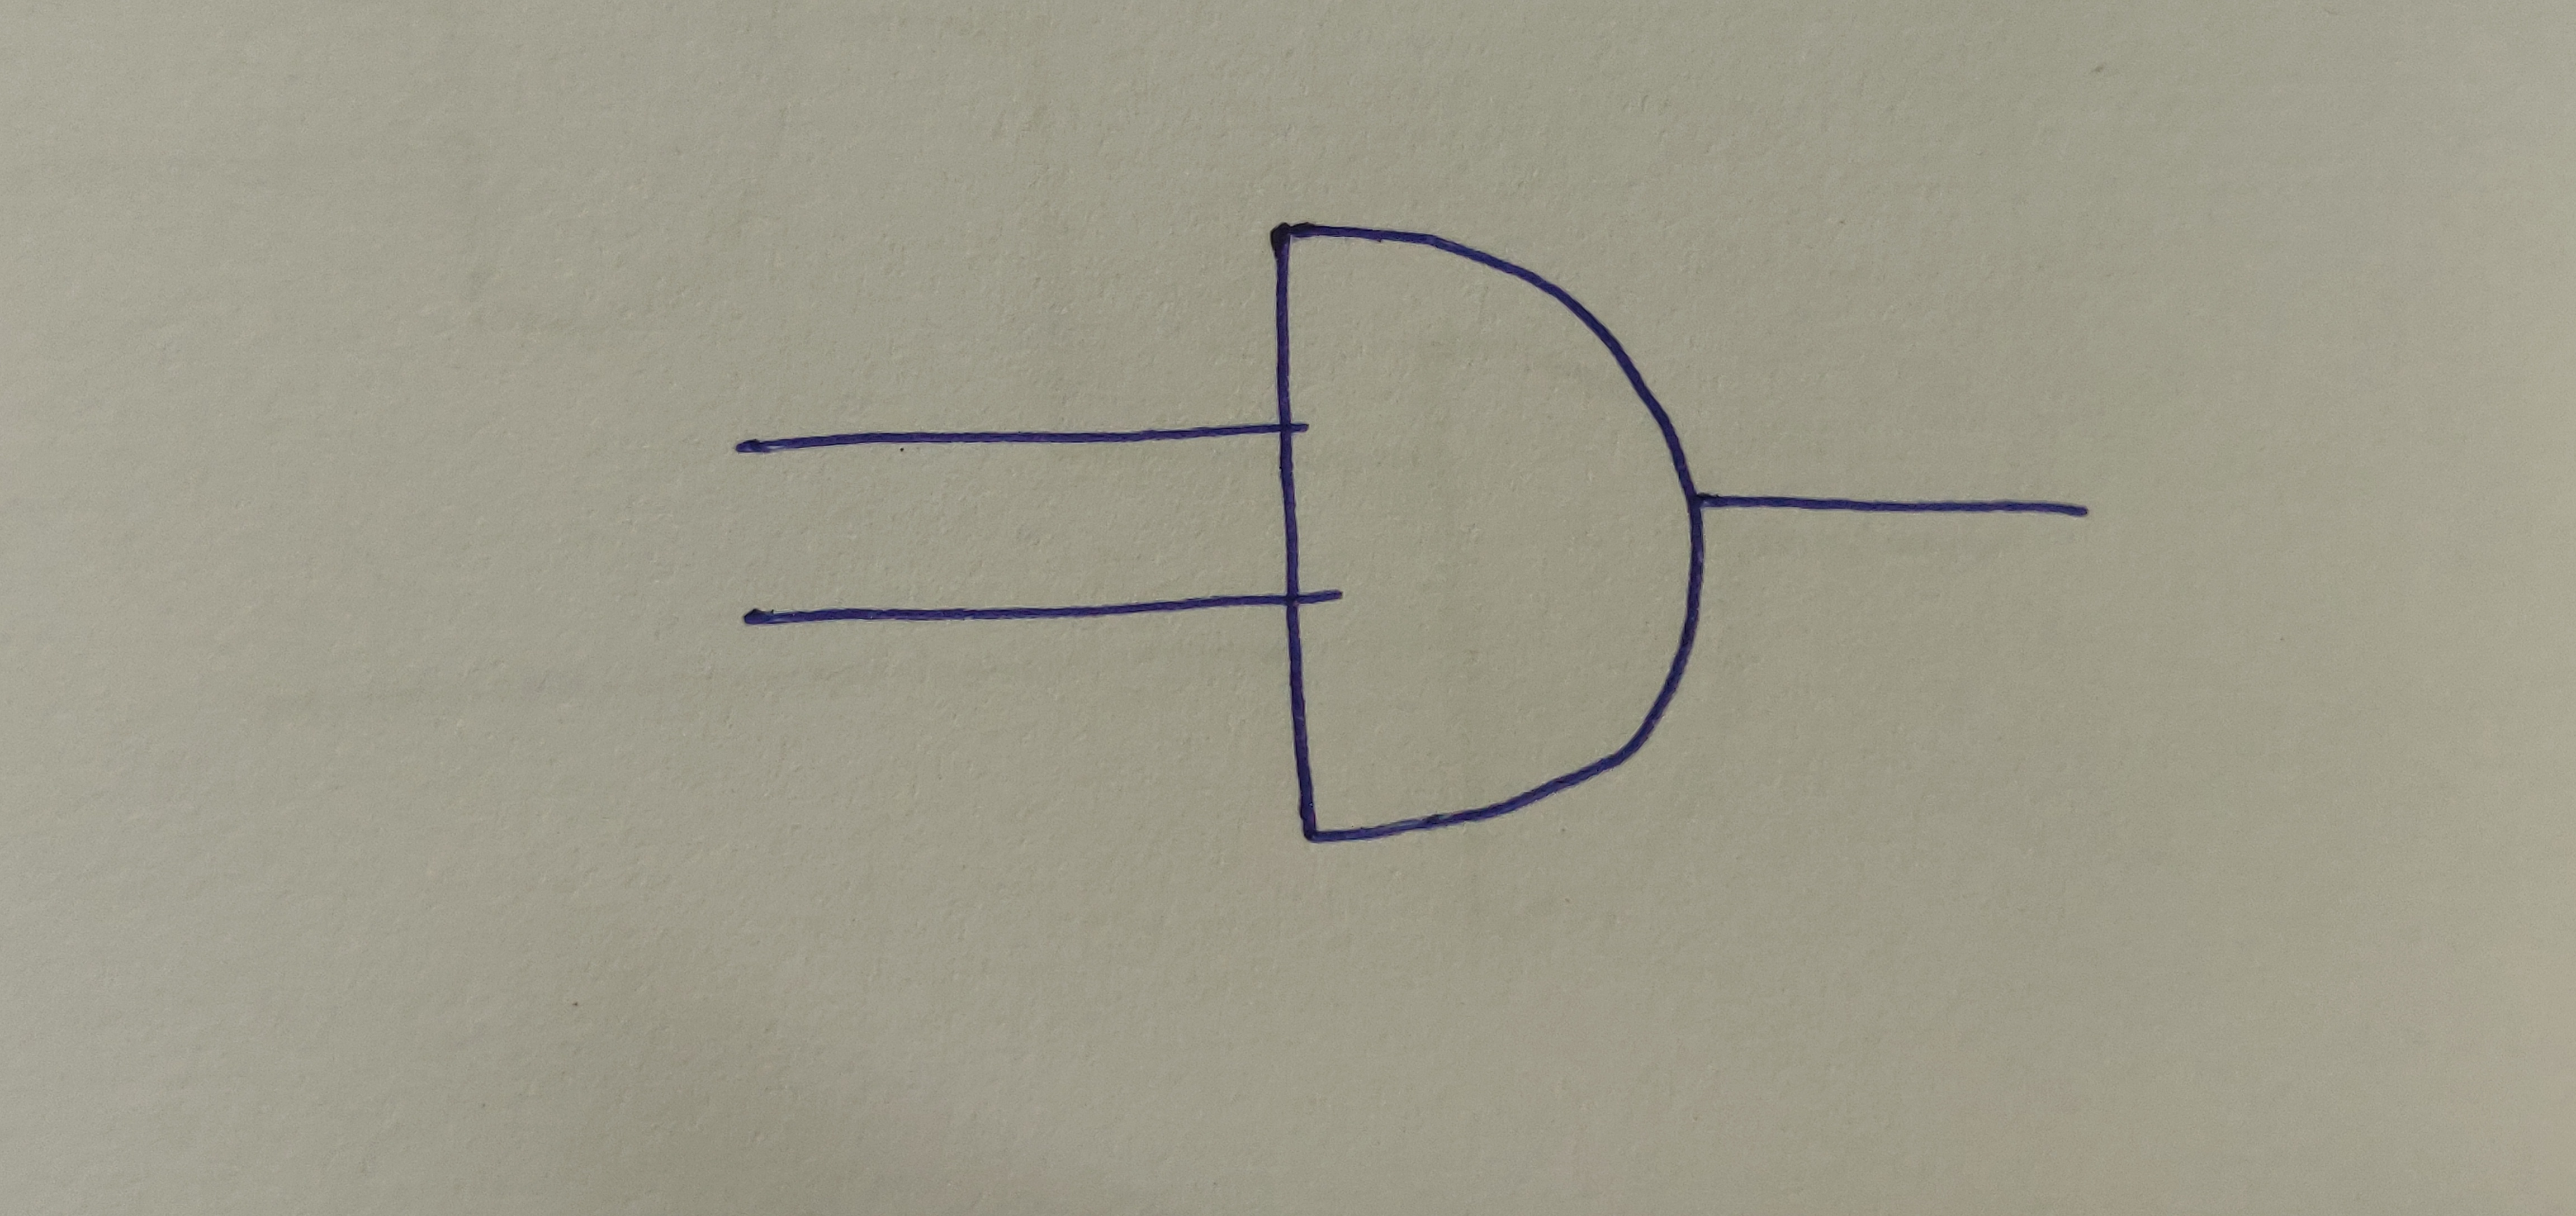and: (1265, 215, 1709, 846)
